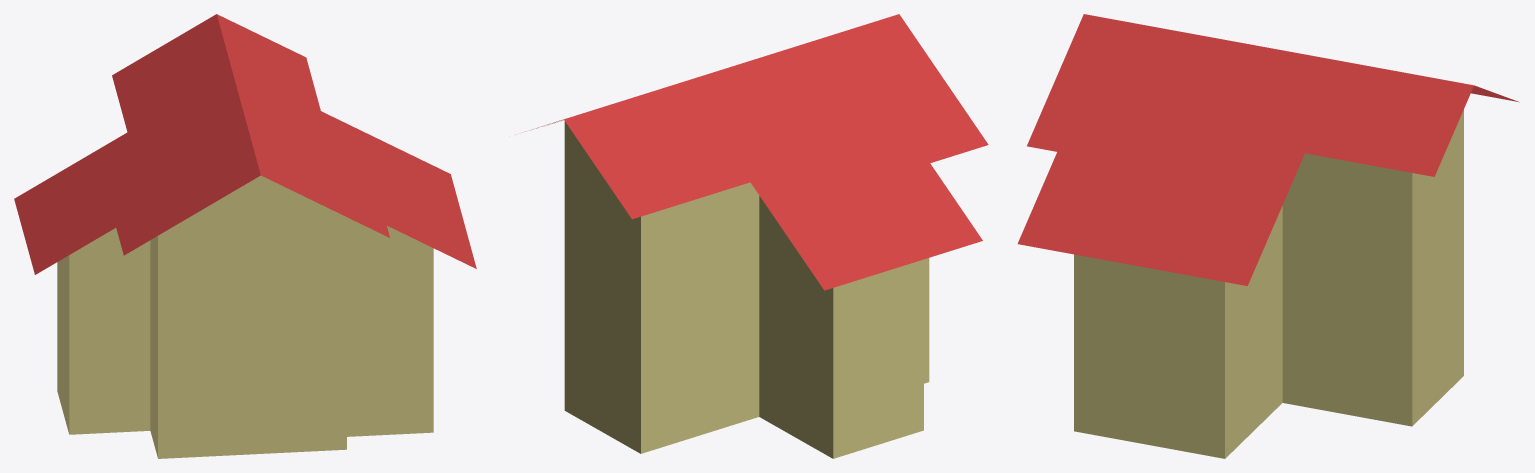
3 views of the same model, side by side, from view 1: azimuth 30°, elevation 25°; view 2: azimuth 150°, elevation 25°; view 3: azimuth 270°, elevation 25° (orthographic). The views are drawn at different scales.
Bounding box in the file's own units: 18.46 × 17.5 × 12.53.
